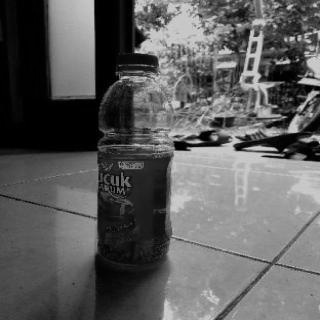plastic_bottles: (92, 50, 175, 276)
